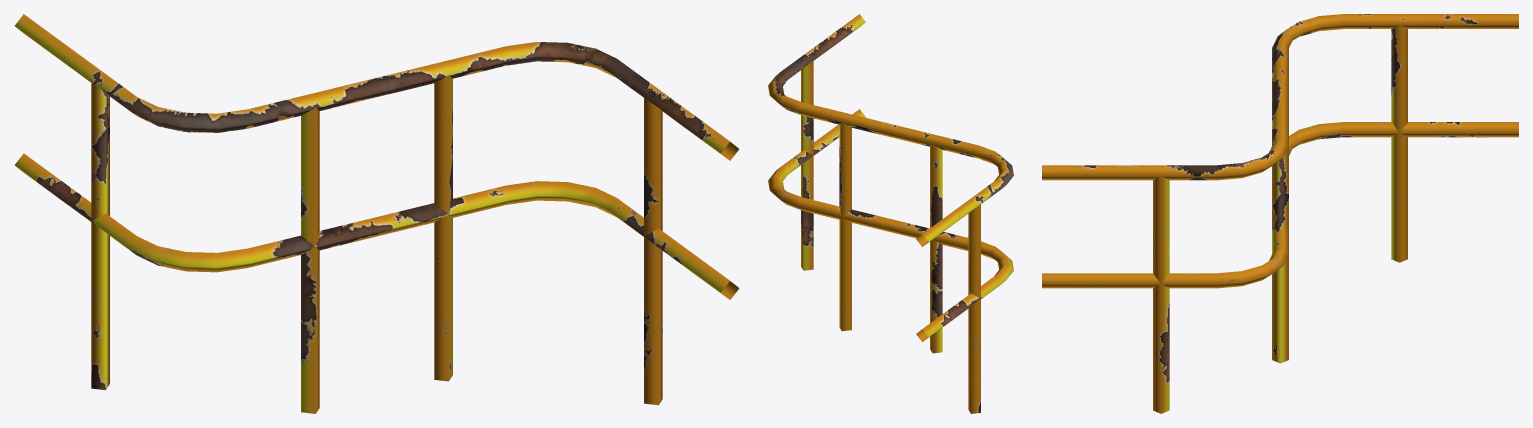
The model's file is safetyRail_corner02.fbx.
3 views of the same model, side by side, from view 1: azimuth 30°, elevation 25°; view 2: azimuth 150°, elevation 25°; view 3: azimuth 270°, elevation 25° (orthographic). The views are drawn at different scales.
Parts seen in each view (by area): view 1: safetyRail_corner02; view 2: safetyRail_corner02; view 3: safetyRail_corner02.
Part boxes in pixels (bbox=[...]): safetyRail_corner02: bbox=[14, 14, 739, 413]; safetyRail_corner02: bbox=[768, 14, 1013, 413]; safetyRail_corner02: bbox=[1042, 14, 1518, 413].
Size of the model in its own units: 157 by 113 by 200.
